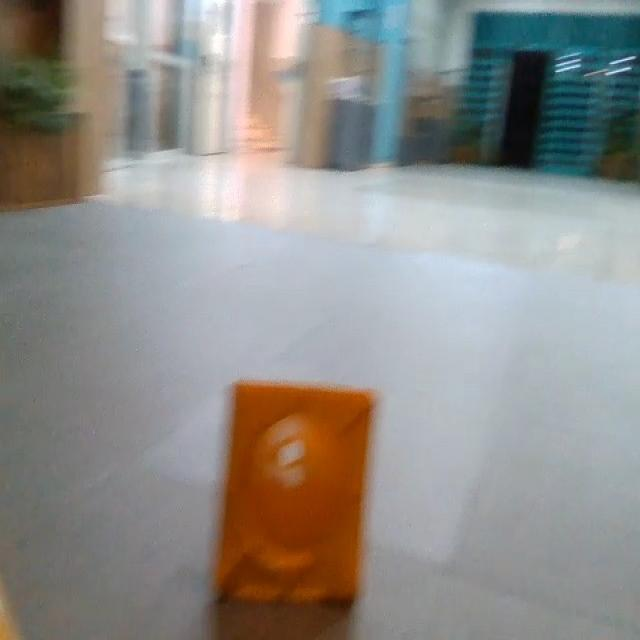cone: (208, 378, 378, 613)
